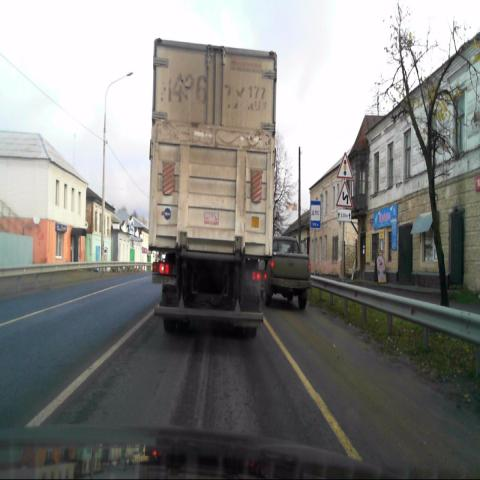1_12_2: (336, 181, 352, 208)
1_8: (336, 151, 354, 180)
7_12: (310, 201, 320, 228)
